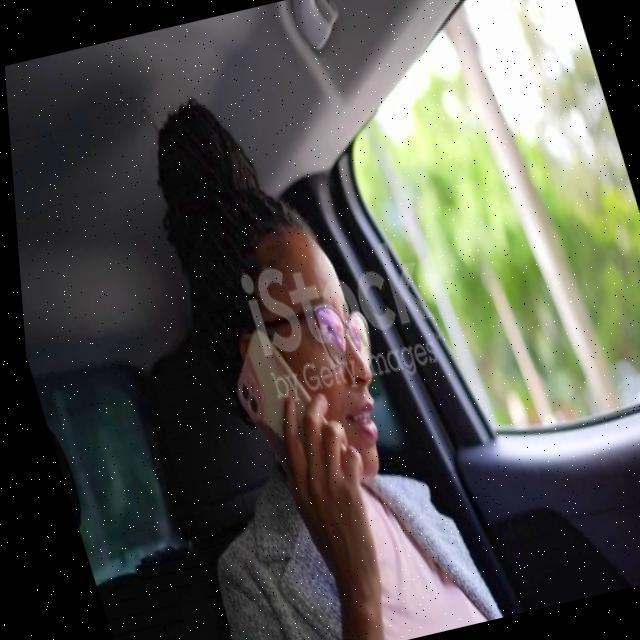PhoneCall: (212, 318, 348, 500)
